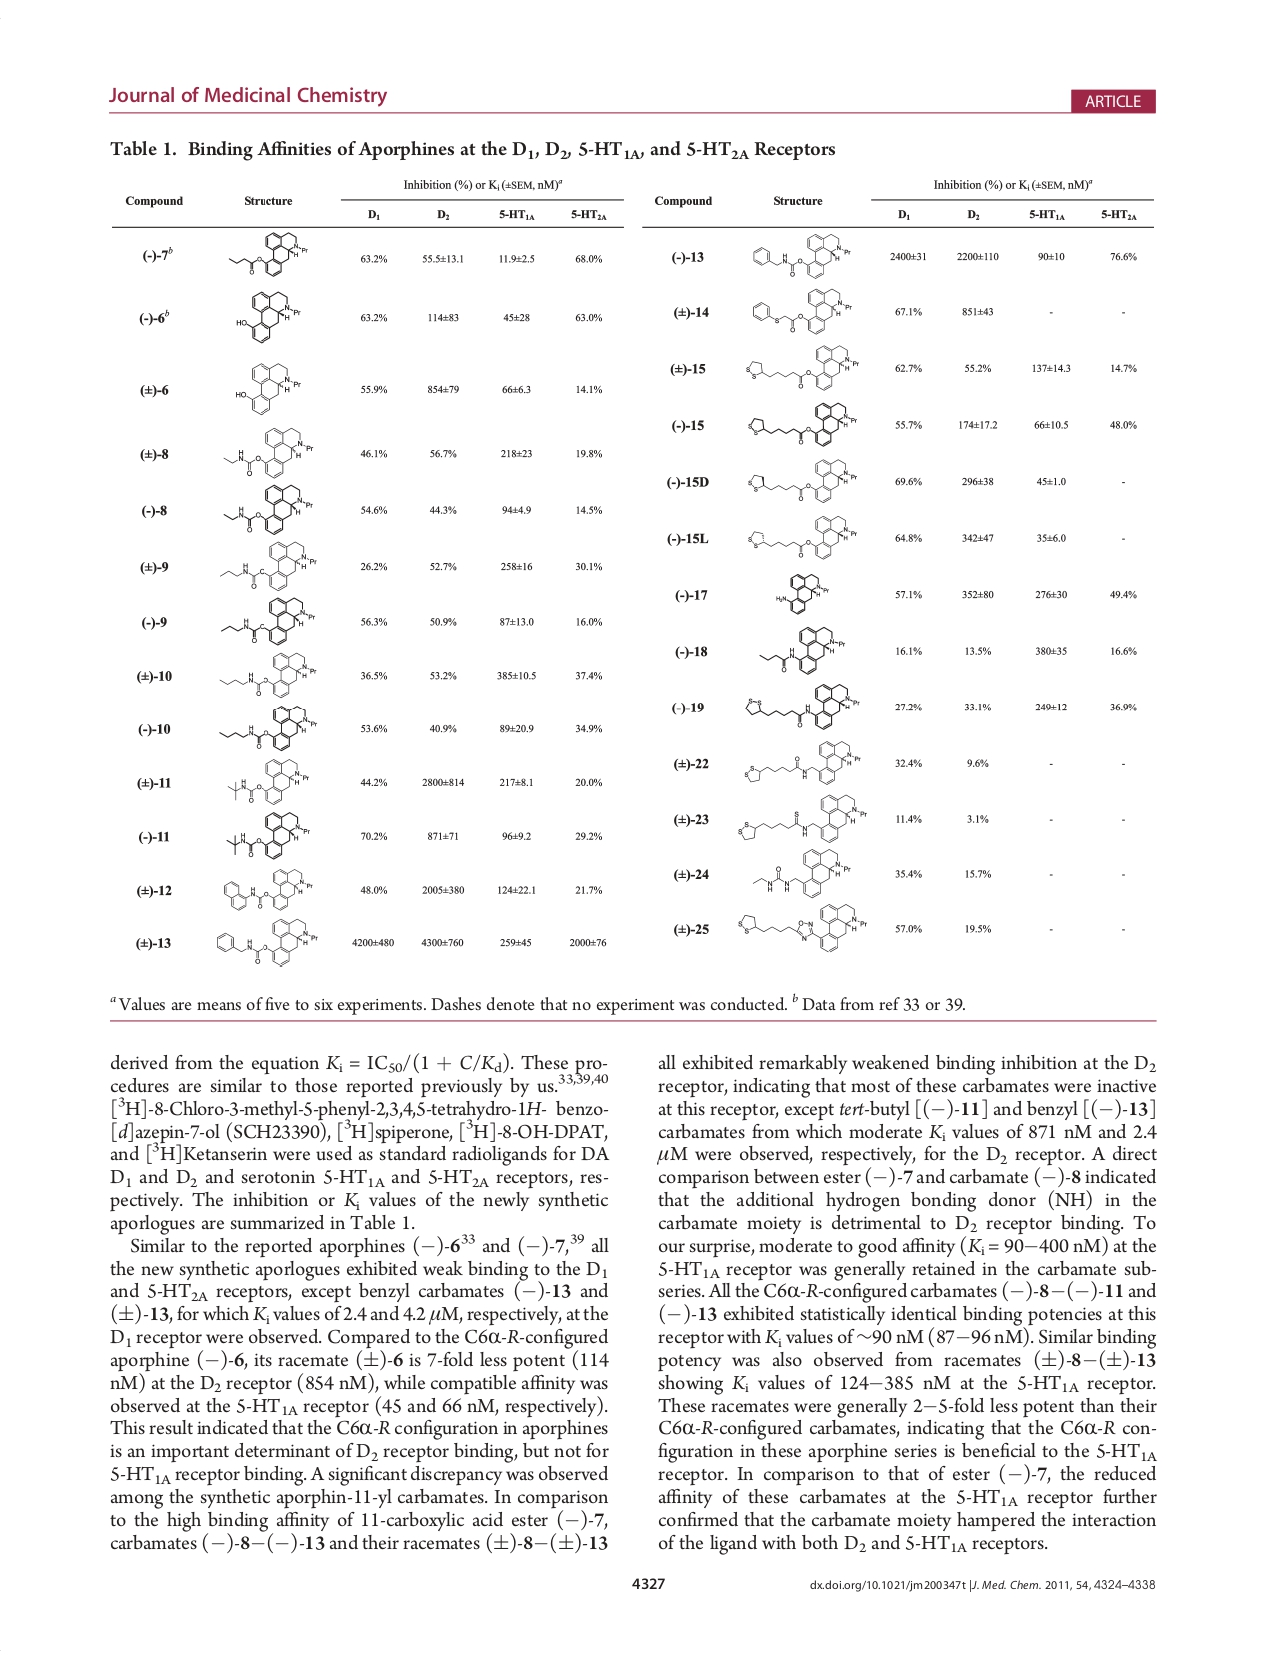exist_molecular: (735, 793, 868, 844), (737, 903, 872, 954), (743, 680, 862, 731), (743, 342, 860, 394), (742, 738, 863, 787), (214, 915, 320, 969), (746, 513, 860, 564), (746, 399, 859, 449), (747, 456, 860, 505), (218, 539, 318, 593), (751, 846, 852, 899), (750, 231, 852, 283), (750, 286, 855, 336), (217, 594, 316, 648), (221, 426, 315, 481), (217, 704, 319, 754), (219, 483, 315, 536), (217, 652, 316, 701), (755, 624, 846, 677), (225, 809, 313, 863), (221, 867, 315, 914), (231, 358, 305, 418), (226, 755, 310, 806), (227, 231, 310, 282), (234, 289, 303, 344), (774, 571, 832, 616)
